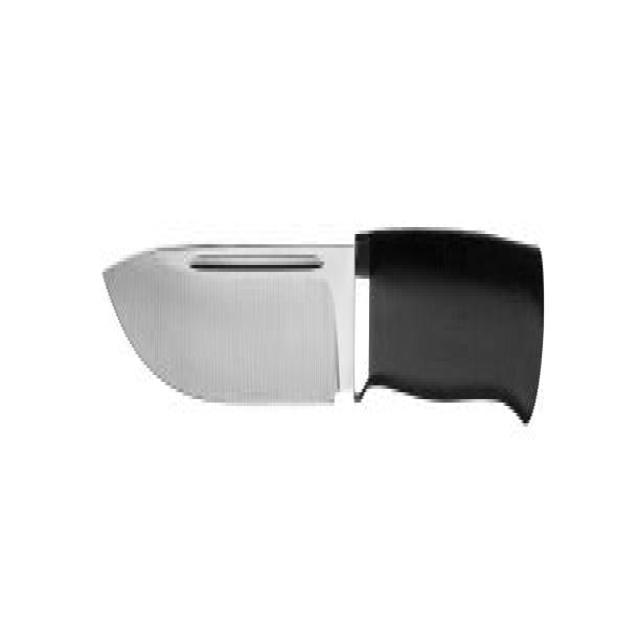knife: (101, 212, 548, 433)
